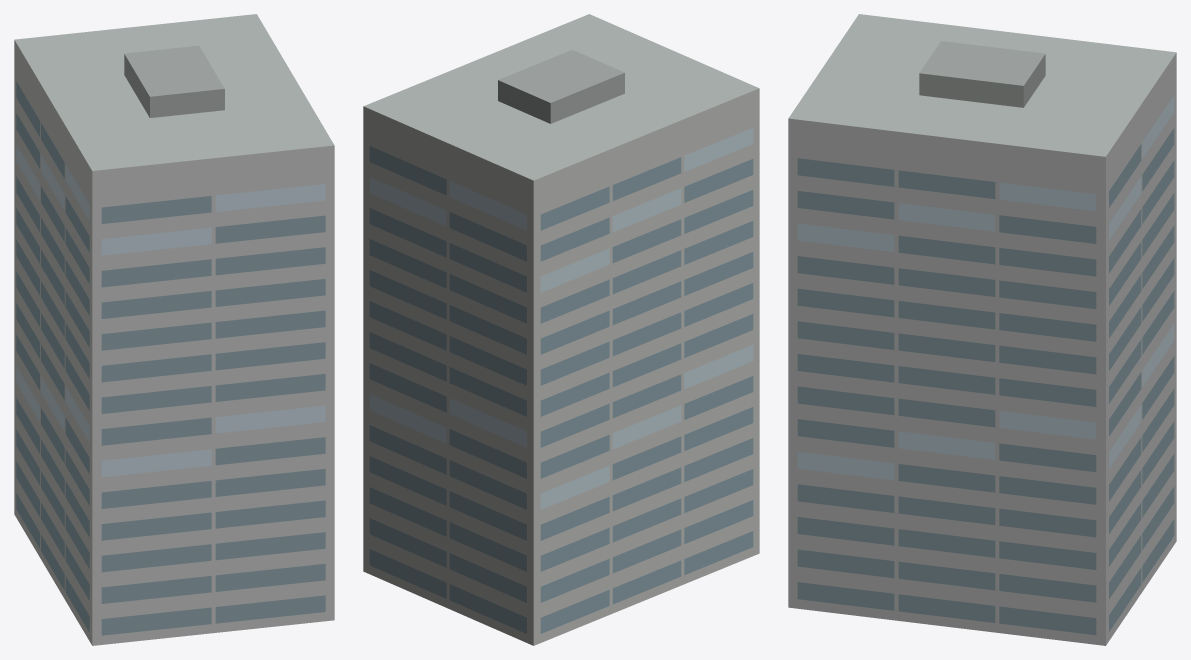
The model's file is fallback-olympic-park-foreon-204.glb.
The picture shows the model from 3 angles, left to right: view 1: azimuth 30°, elevation 25°; view 2: azimuth 150°, elevation 25°; view 3: azimuth 270°, elevation 25°; orthographic projection. The views are drawn at different scales.
Parts seen in each view (by area): view 1: fallback-olympic-park-foreon-204; view 2: fallback-olympic-park-foreon-204; view 3: fallback-olympic-park-foreon-204.
Boxes of the visible parts, x1,y1,x2,y2 form: fallback-olympic-park-foreon-204: (14,14,334,645); fallback-olympic-park-foreon-204: (363,14,759,645); fallback-olympic-park-foreon-204: (788,14,1176,645).
Bounding box in the file's own units: 28.67 × 47.81 × 32.92.
